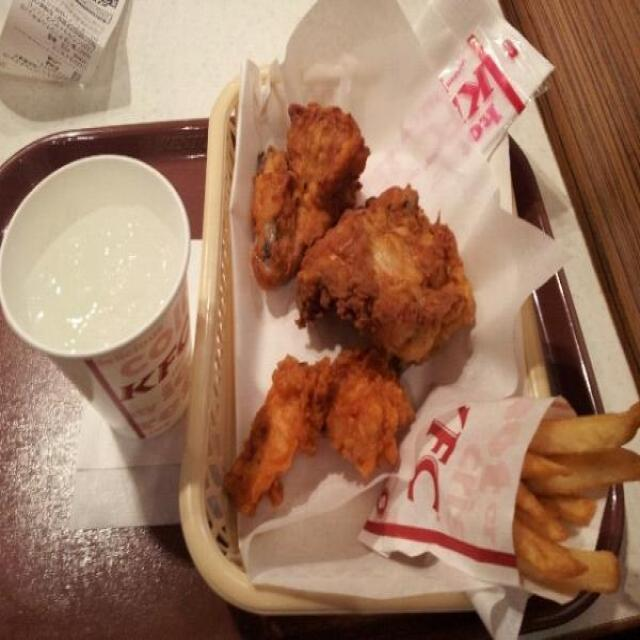French Fries: (514, 393, 640, 601)
